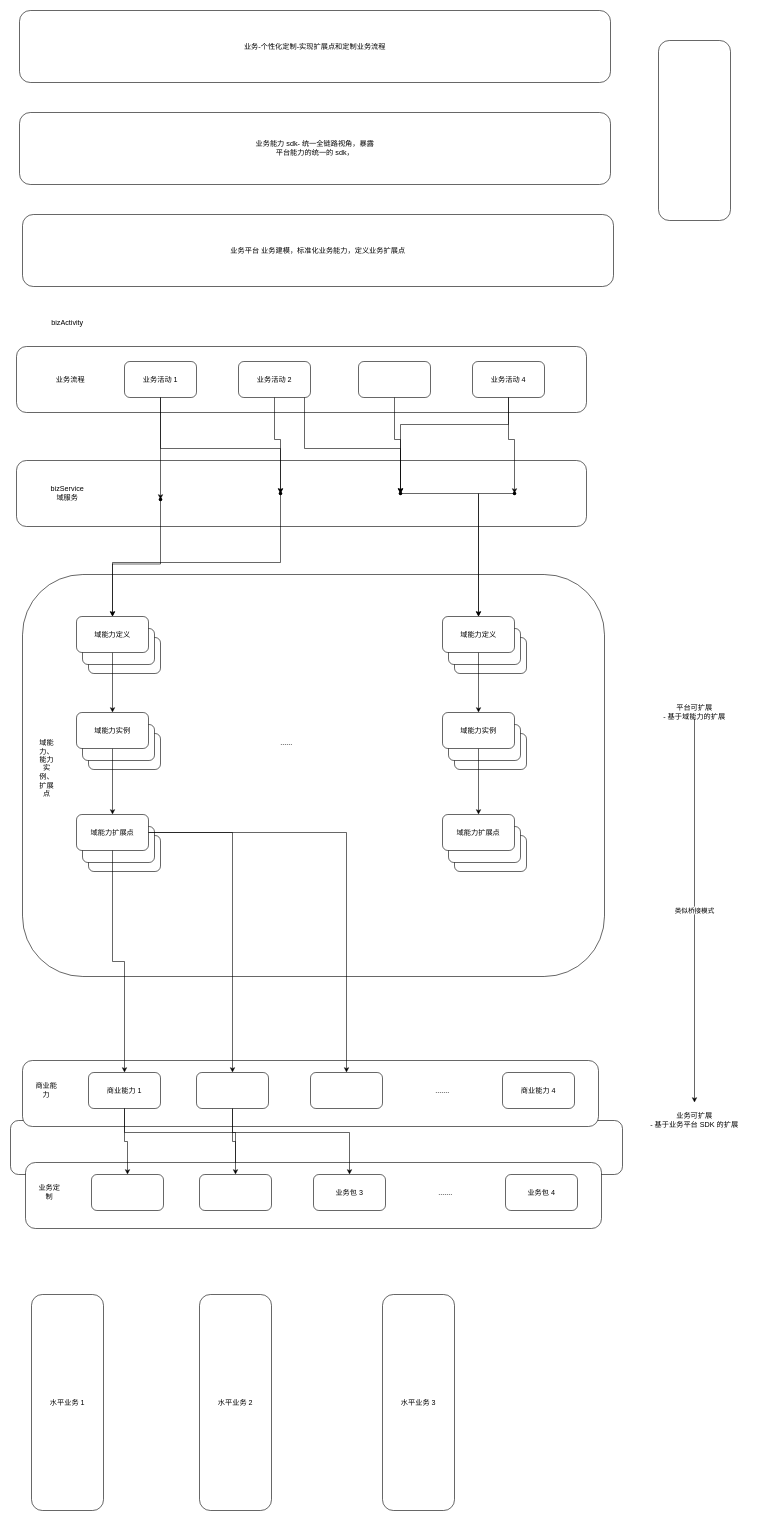
Some shapes in this 765 by 1521 pixel diagram are drawn without their labels. The shapes that lost their labels are listed below. From the top down, each one's box as (x1, y1, x2, y2) in pixels, then its label:
(658, 40, 730, 220): 运营平台，业务可管控，能力可视化
(358, 361, 430, 398): 业务活动 3
(196, 1072, 268, 1108): 商业能力 2
(310, 1072, 382, 1108): 商业能力 3
(10, 1120, 622, 1174): 业务平台 sdk
(91, 1174, 164, 1210): 业务包 1
(199, 1174, 272, 1210): 业务包 2
